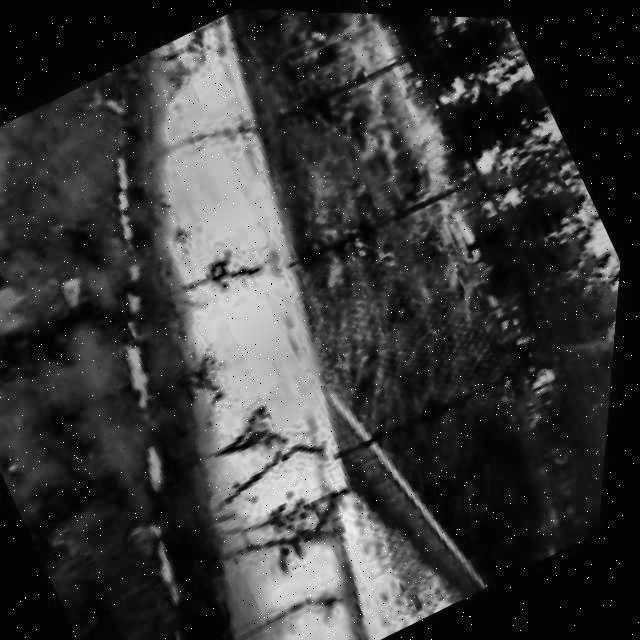Fire: (0, 220, 56, 371)
